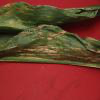Corn leaf blight: (0, 23, 99, 69), (0, 0, 99, 30)
